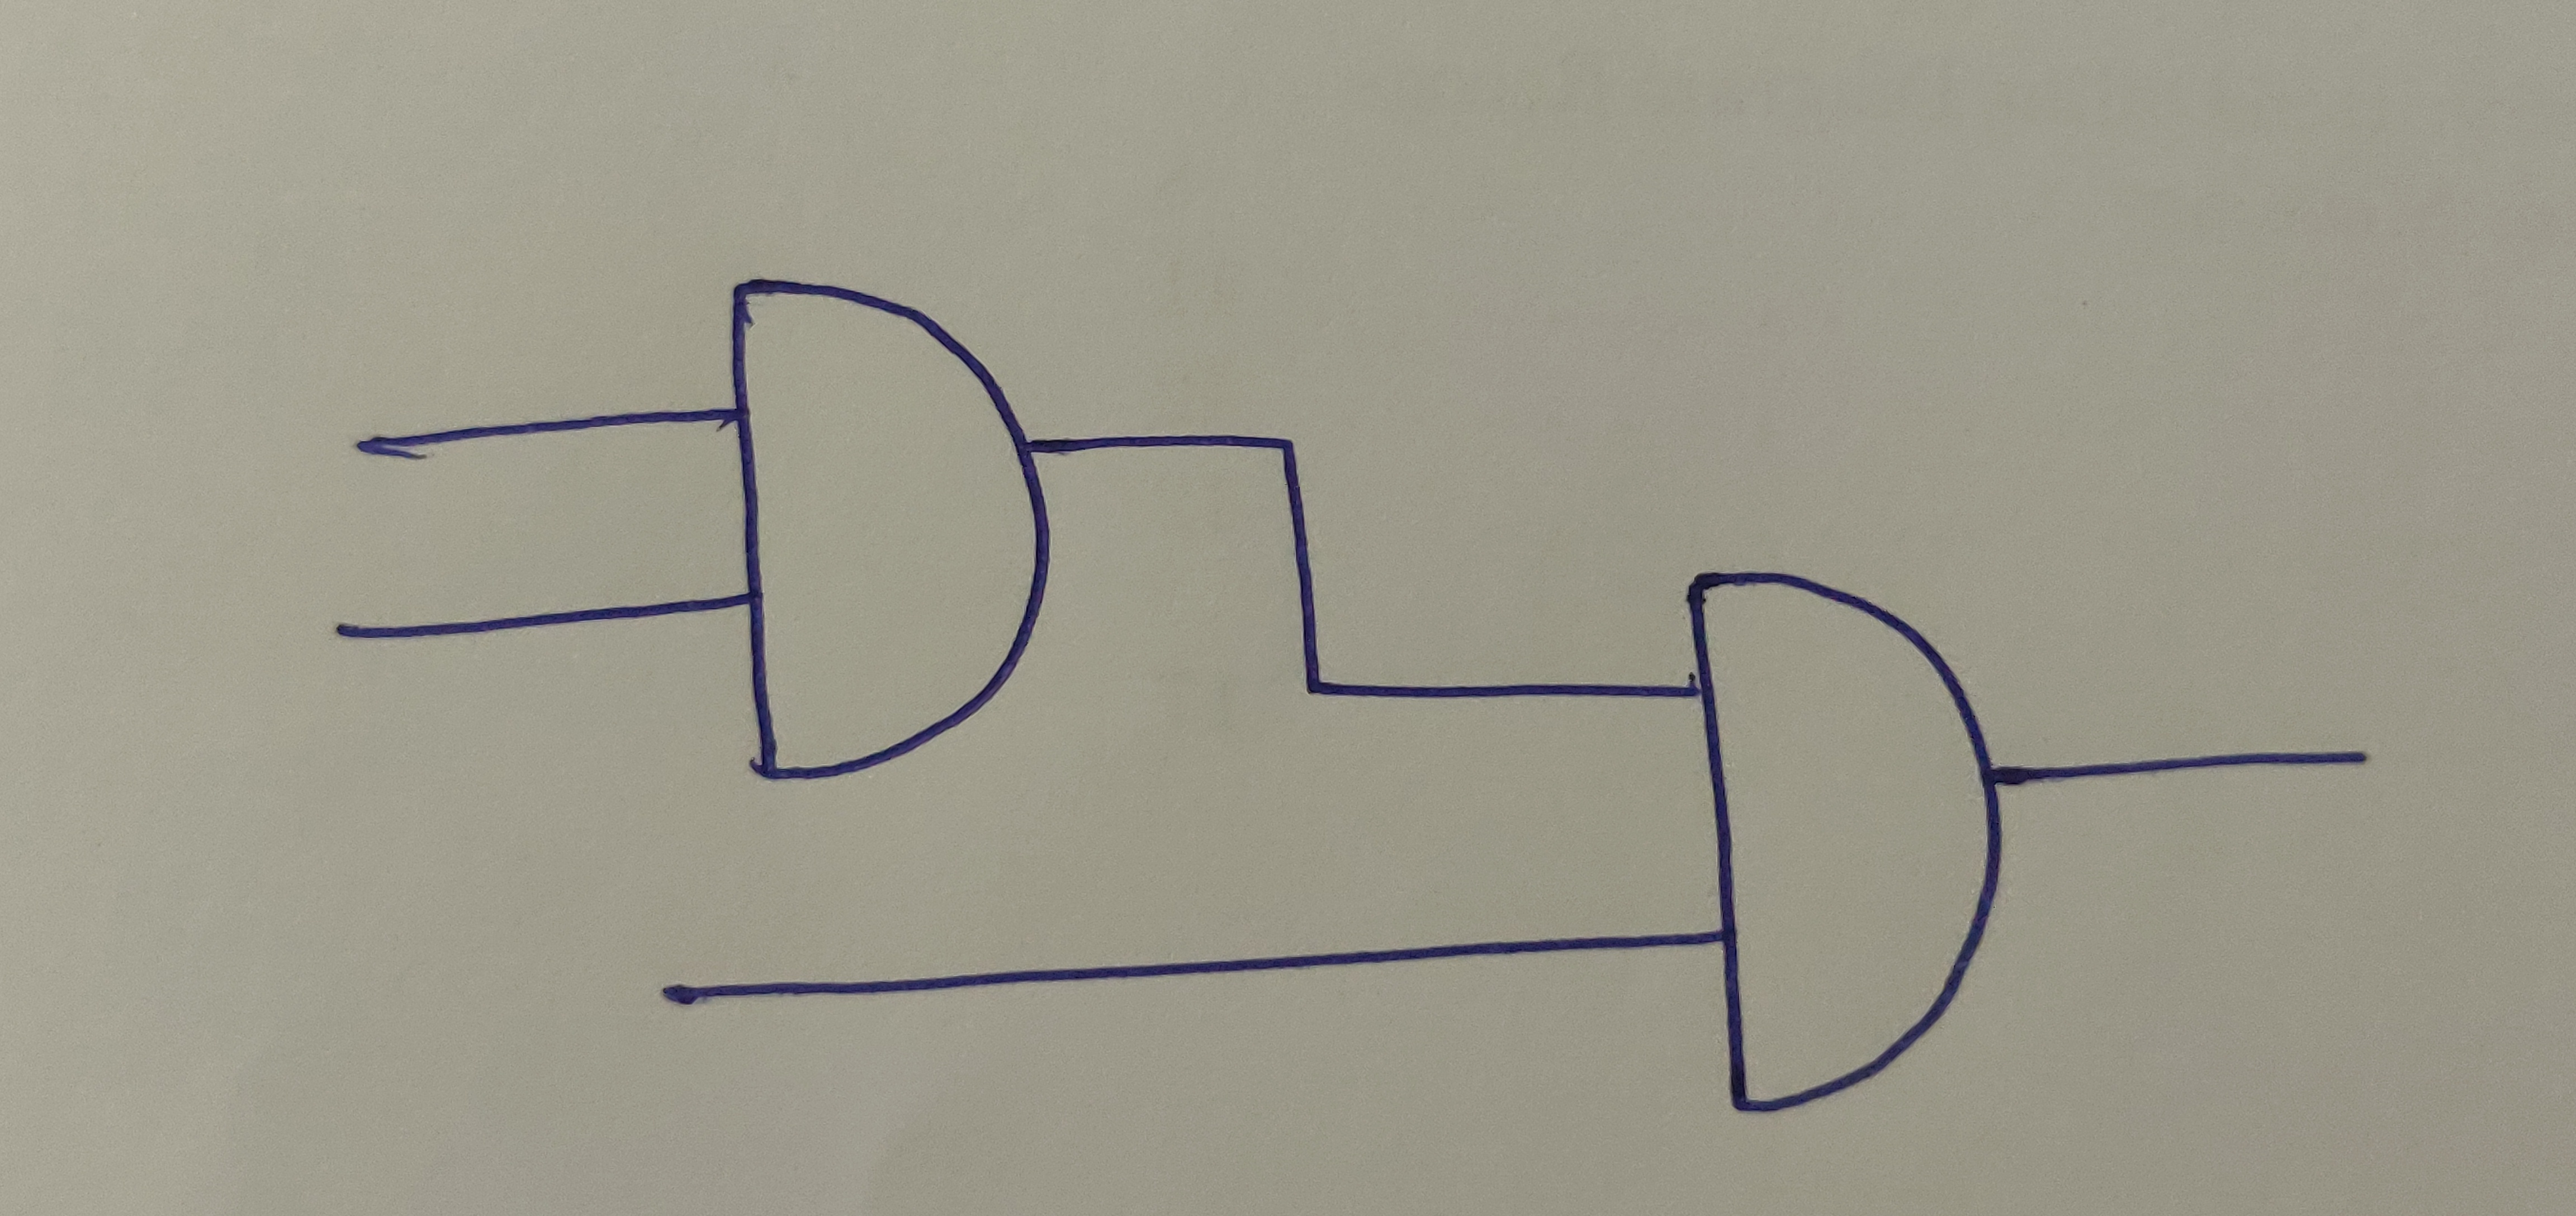and: (1681, 562, 2008, 1116), (721, 274, 1053, 784)
